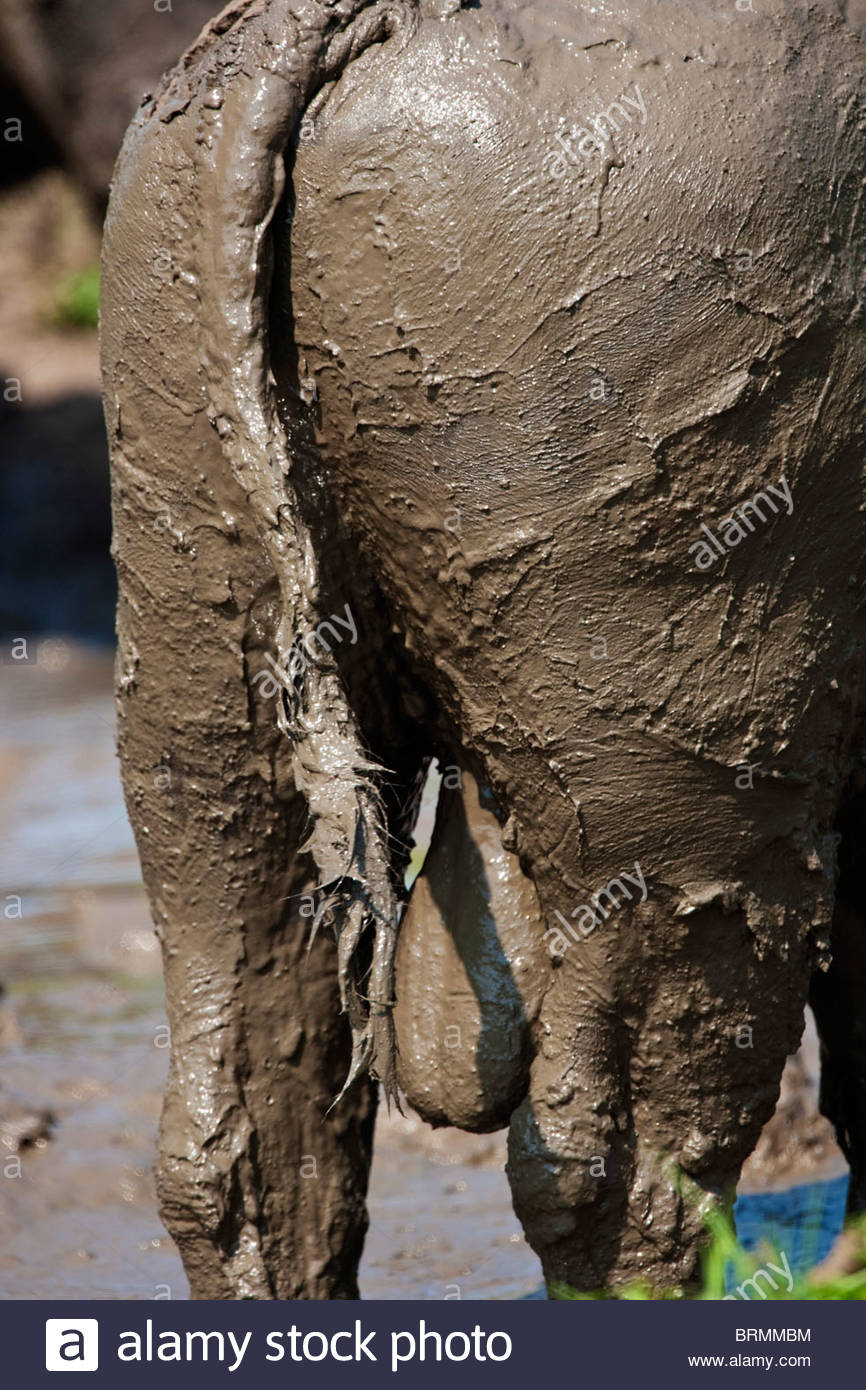buffalo: (83, 1, 866, 1284)
